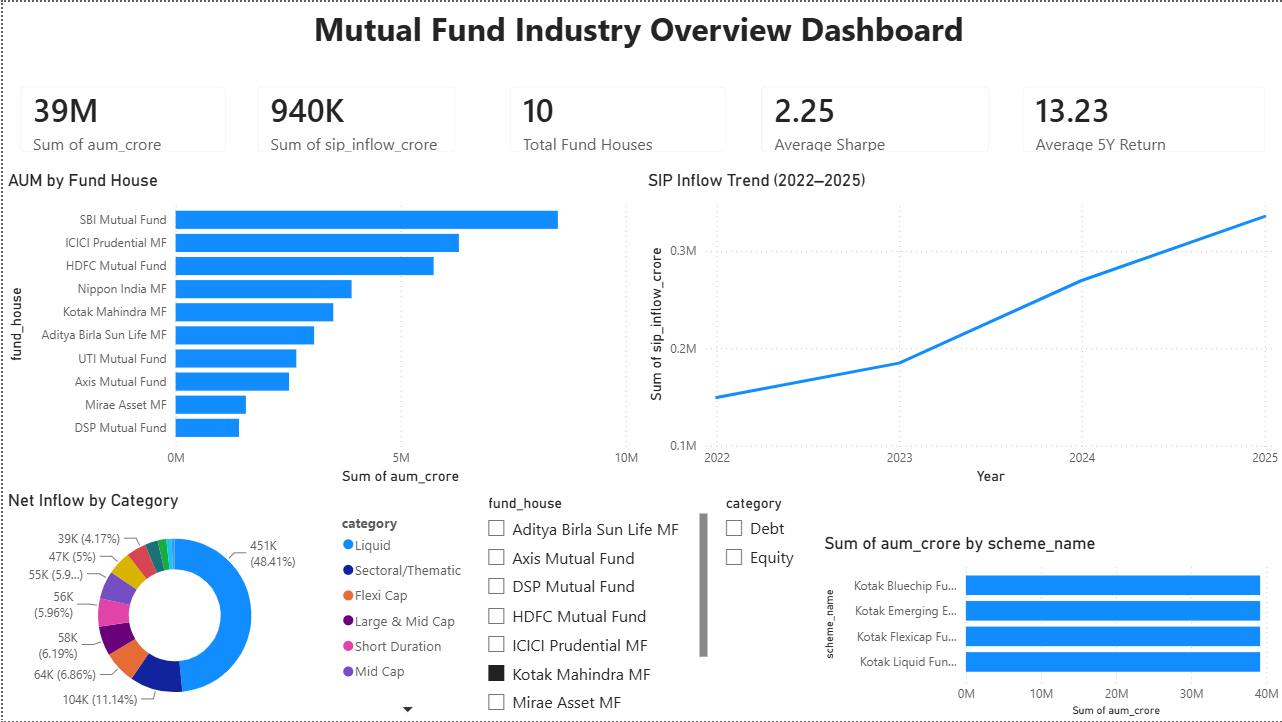

The page's visual inventory and layout, read from the dashboard file:
{"tool":"powerbi","page":{"name":"Executive Overview ","canvas":[1280,720],"ordinal":0},"visuals":[{"type":"cardVisual","fields":{"Data":["Sum(aum_data_clean.aum_crore)"]},"box":[0,67.1,240,100],"z":0},{"type":"cardVisual","fields":{"Data":["Sum(sip_data_clean.sip_inflow_crore)"]},"box":[237.1,67.1,232.9,100],"z":1000},{"type":"cardVisual","fields":{"Data":["aum_data_clean.Total Fund Houses"]},"box":[490,67.1,250,100],"z":2000},{"type":"cardVisual","fields":{"Data":["scheme_performance_clean.Average Sharpe"]},"box":[741.4,67.1,262.9,100],"z":3000},{"type":"cardVisual","fields":{"Data":["scheme_performance_clean.Average 5Y Return"]},"box":[1002.9,67.1,277.1,100],"z":4000},{"type":"clusteredBarChart","title":"AUM by Fund House","fields":{"Y":["Sum(aum_data_clean.aum_crore)"],"Category":["aum_data_clean.fund_house"]},"box":[0,167.1,640,320],"z":5000},{"type":"lineChart","title":"SIP Inflow Trend (2022–2025)","fields":{"Category":["sip_data_clean.month.Variation.Date Hierarchy.Year","sip_data_clean.month.Variation.Date Hierarchy.Quarter","sip_data_clean.month.Variation.Date Hierarchy.Month","sip_data_clean.month.Variation.Date Hierarchy.Day"],"Y":["Sum(sip_data_clean.sip_inflow_crore)"]},"box":[640,167.1,640,320],"z":6000},{"type":"donutChart","title":"Net Inflow by Category","fields":{"Category":["category_inflows_clean.category"],"Y":["Sum(category_inflows_clean.net_inflow_crore)"]},"box":[0,487.1,472.9,232.9],"z":7000},{"type":"slicer","fields":{"Values":["fund_master_clean.fund_house"]},"box":[472.9,487.1,237.1,232.9],"z":8000},{"type":"slicer","fields":{"Values":["fund_master_clean.category"]},"box":[710,487.1,105.7,87.1],"z":9000},{"type":"textbox","box":[0,0,1280,57.1],"z":10000},{"type":"barChart","fields":{"Y":["Sum(aum_data_clean.aum_crore)"],"Category":["fund_master_clean.scheme_name"]},"box":[815.7,531.4,464.3,188.6],"z":10001}]}

Visuals, with their boxes in screenshot pixels (x1, y1, x2, y2), scaled from the page's 1280x720 canvas onto the 1282x722 screenshot:
cardVisual - Sum(aum_data_clean.aum_crore): x1=0 y1=67 x2=240 y2=168
cardVisual - Sum(sip_data_clean.sip_inflow_crore): x1=237 y1=67 x2=471 y2=168
cardVisual - aum_data_clean.Total Fund Houses: x1=491 y1=67 x2=741 y2=168
cardVisual - scheme_performance_clean.Average Sharpe: x1=743 y1=67 x2=1006 y2=168
cardVisual - scheme_performance_clean.Average 5Y Return: x1=1004 y1=67 x2=1281 y2=168
"AUM by Fund House" clusteredBarChart: x1=0 y1=168 x2=641 y2=488
"SIP Inflow Trend (2022–2025)" lineChart: x1=641 y1=168 x2=1281 y2=488
"Net Inflow by Category" donutChart: x1=0 y1=488 x2=474 y2=721
slicer - fund_master_clean.fund_house: x1=474 y1=488 x2=711 y2=721
slicer - fund_master_clean.category: x1=711 y1=488 x2=817 y2=576
textbox: x1=0 y1=0 x2=1281 y2=57
barChart - Sum(aum_data_clean.aum_crore) x fund_master_clean.scheme_name: x1=817 y1=533 x2=1281 y2=721
